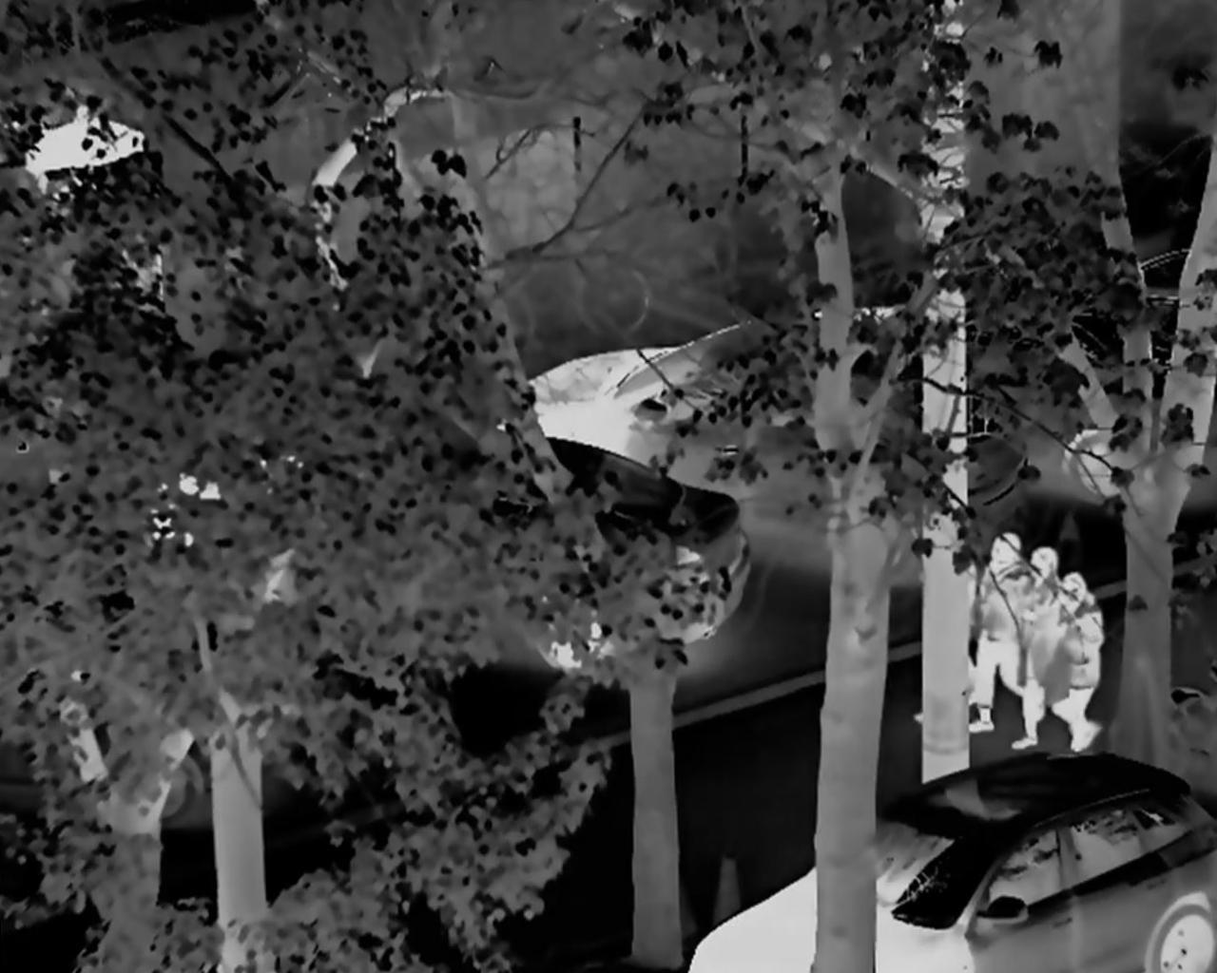person: (963, 528, 1030, 735), (1047, 569, 1111, 753), (1014, 550, 1060, 747)
